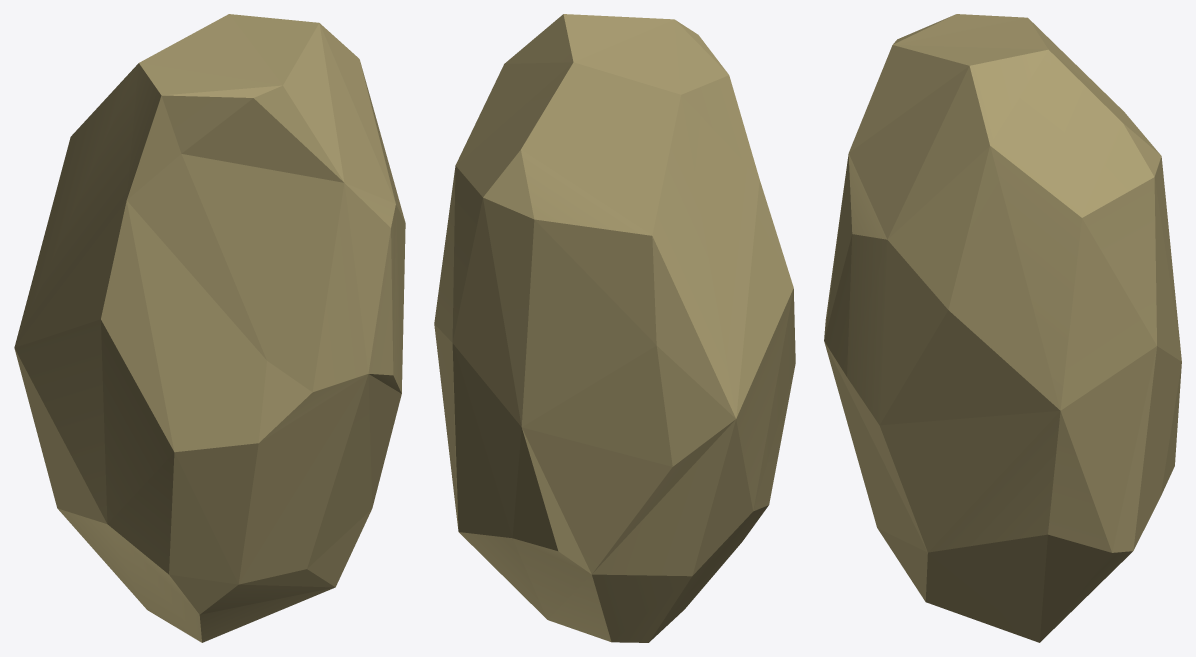
File: SM_small_rock_19.fbx
The picture shows the model from 3 angles, left to right: view 1: azimuth 30°, elevation 25°; view 2: azimuth 150°, elevation 25°; view 3: azimuth 270°, elevation 25°; orthographic projection. The views are drawn at different scales.
Visible parts, largest first — view 1: small_rock_19; view 2: small_rock_19; view 3: small_rock_19.
Part boxes in pixels (x1=…): small_rock_19: x1=14, y1=14, x2=405, y2=642; small_rock_19: x1=434, y1=14, x2=795, y2=642; small_rock_19: x1=824, y1=14, x2=1181, y2=642.
Size of the model in its own units: 53.5 by 92.43 by 51.13.
